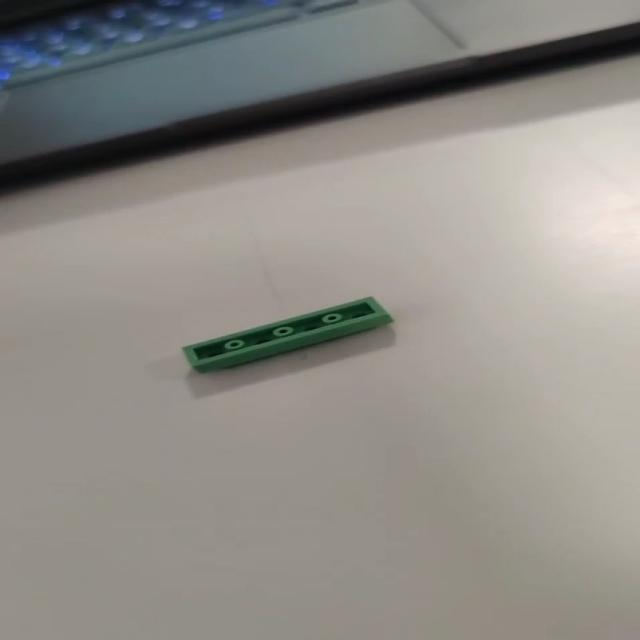C4x1x0: (172, 293, 396, 375)
